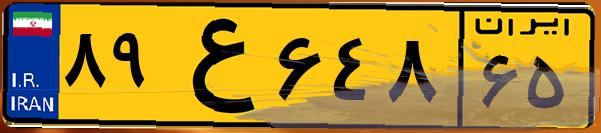4: (330, 28, 385, 110)
5: (525, 38, 570, 115)
6: (270, 28, 330, 110), (475, 38, 525, 113)
8: (385, 28, 445, 110), (57, 26, 110, 100)
9: (110, 28, 158, 98)
ع: (158, 12, 270, 120)
